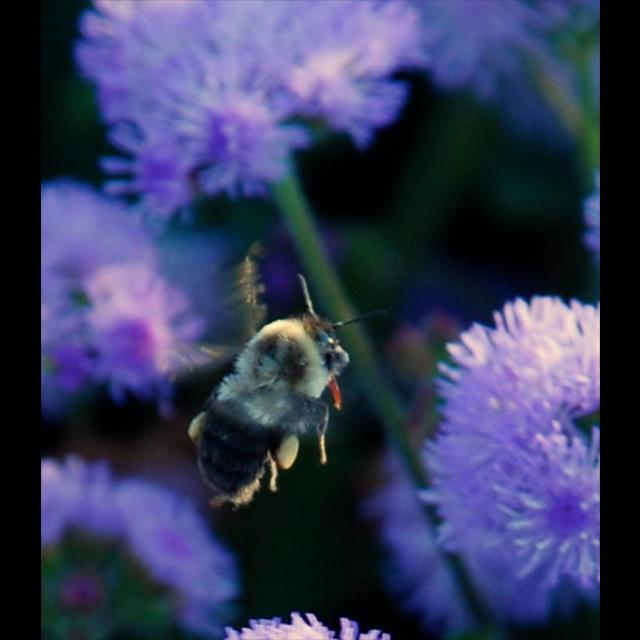Flower: (67, 1, 429, 238), (370, 292, 512, 638), (41, 178, 220, 426), (40, 456, 234, 638), (422, 0, 598, 148), (256, 237, 338, 309), (220, 604, 392, 638), (574, 167, 598, 267)
